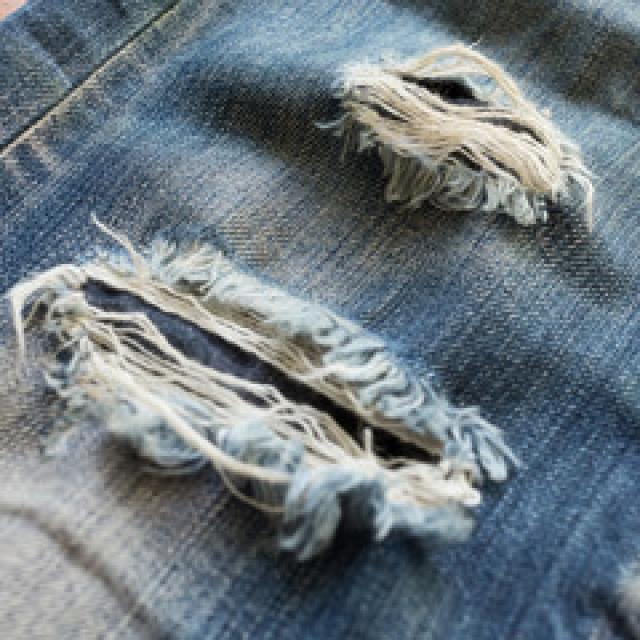Hole: (8, 218, 520, 562), (343, 43, 593, 226)
